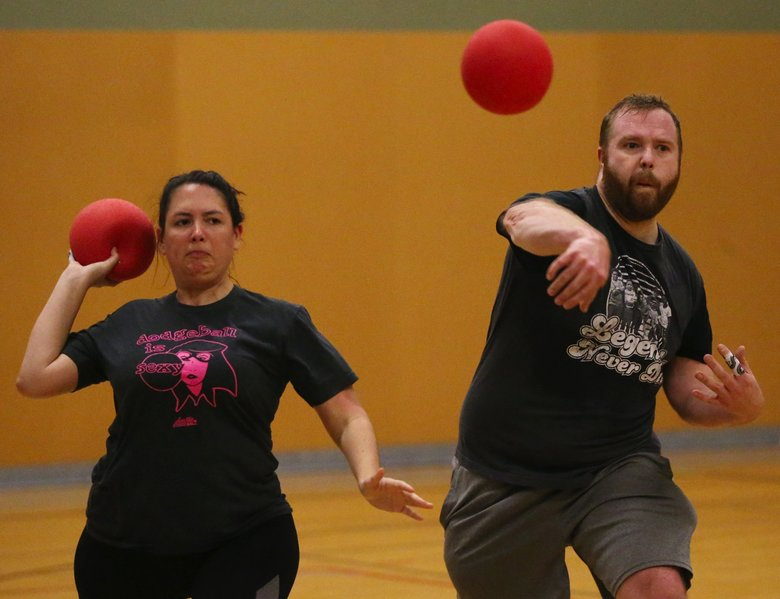red ball: (457, 19, 553, 115), (65, 196, 159, 286)
